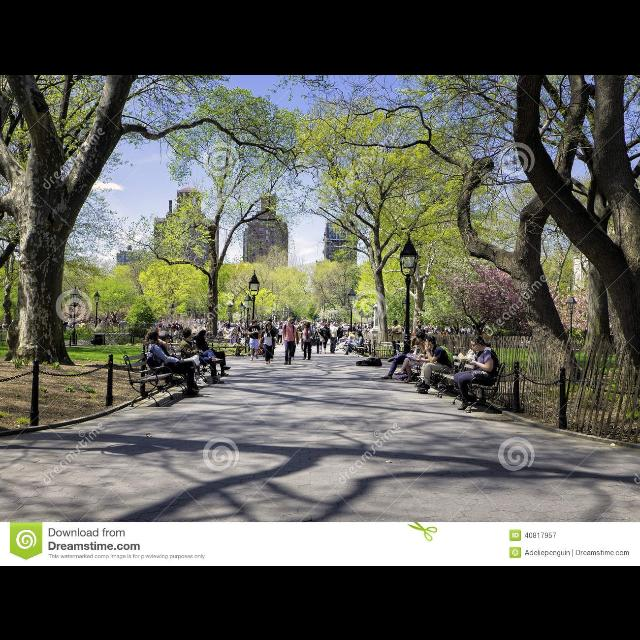head: (471, 336, 485, 352), (146, 328, 160, 342), (424, 337, 436, 348), (160, 332, 170, 344), (416, 331, 426, 341), (416, 338, 424, 348), (200, 329, 208, 338), (304, 322, 310, 330), (268, 322, 272, 330), (288, 317, 292, 325), (233, 328, 237, 334), (268, 320, 272, 326), (290, 324, 294, 330), (302, 322, 306, 328), (394, 319, 398, 325), (254, 320, 258, 324), (318, 323, 322, 327), (324, 324, 328, 328), (333, 322, 337, 326), (358, 333, 362, 337), (280, 326, 282, 330), (339, 326, 341, 329), (295, 322, 297, 324)
person: (142, 326, 205, 400), (452, 334, 502, 412), (150, 329, 204, 399), (178, 328, 228, 386), (378, 330, 429, 382), (412, 334, 456, 391), (392, 338, 440, 384), (194, 328, 232, 378), (257, 322, 283, 366), (260, 318, 280, 362), (386, 317, 404, 363), (281, 316, 297, 366), (282, 320, 300, 360), (298, 322, 316, 362), (246, 318, 262, 362), (344, 330, 366, 356), (228, 328, 244, 358), (312, 322, 326, 356), (297, 321, 311, 354), (328, 321, 340, 354), (319, 322, 331, 354), (276, 324, 284, 346), (336, 324, 344, 346), (293, 318, 299, 326)
